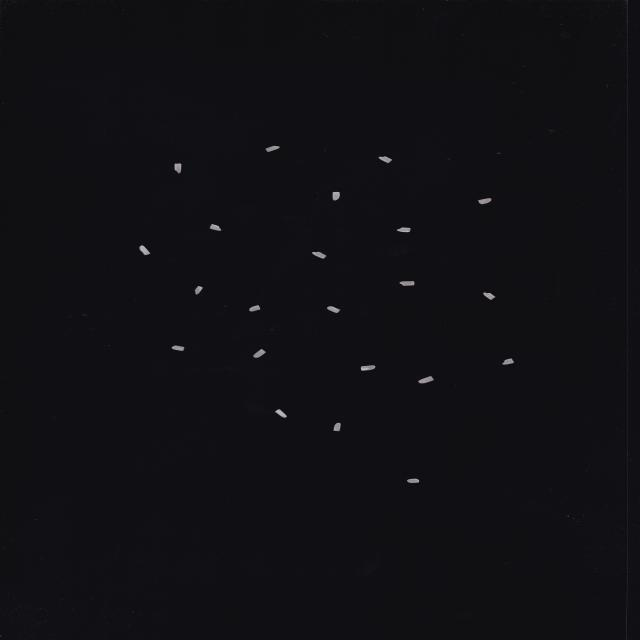Not: (139, 245, 151, 256), (418, 376, 434, 384), (312, 251, 327, 259), (378, 156, 393, 164), (253, 349, 266, 358), (275, 409, 287, 418), (483, 292, 496, 300), (360, 365, 376, 371), (327, 306, 340, 313), (396, 227, 411, 233), (265, 146, 280, 152), (174, 163, 182, 174), (210, 224, 222, 231), (249, 305, 261, 312), (171, 345, 185, 351), (502, 358, 514, 365), (478, 198, 492, 204), (194, 286, 203, 295), (333, 422, 341, 432), (399, 281, 415, 286), (406, 478, 419, 484), (332, 192, 340, 200)
